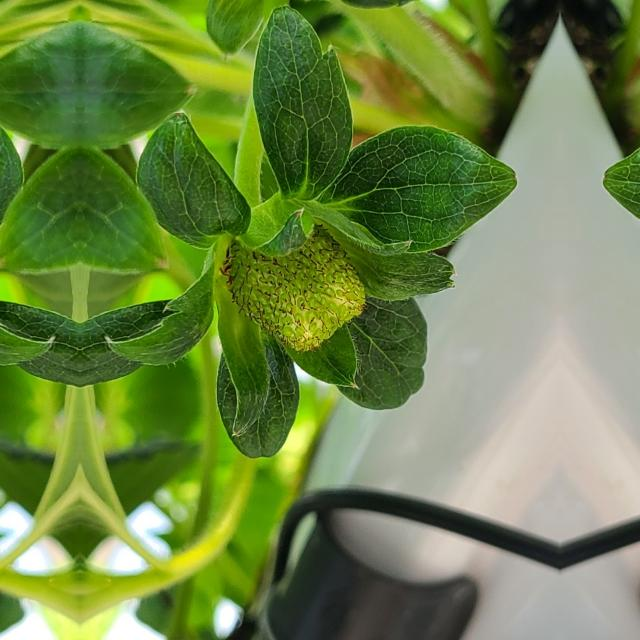Health_25: (228, 224, 364, 350)
